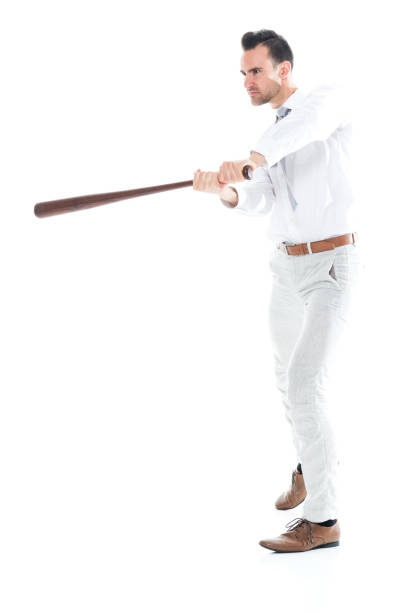bita: (34, 164, 266, 222)
